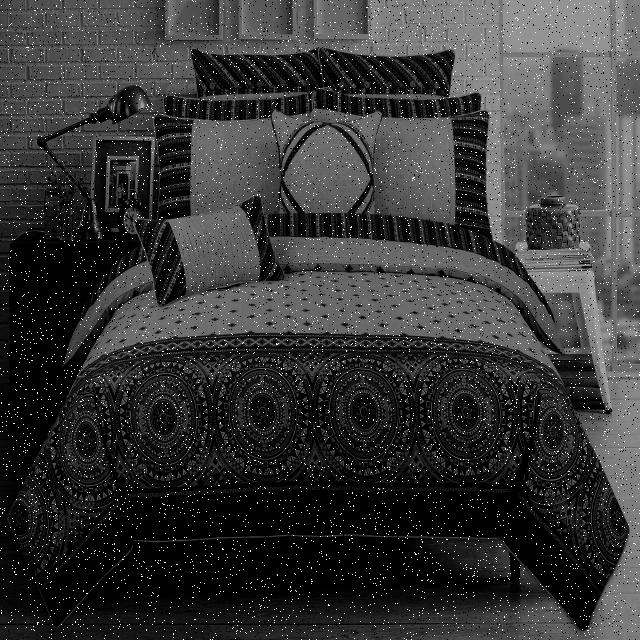bed: (97, 65, 513, 538)
